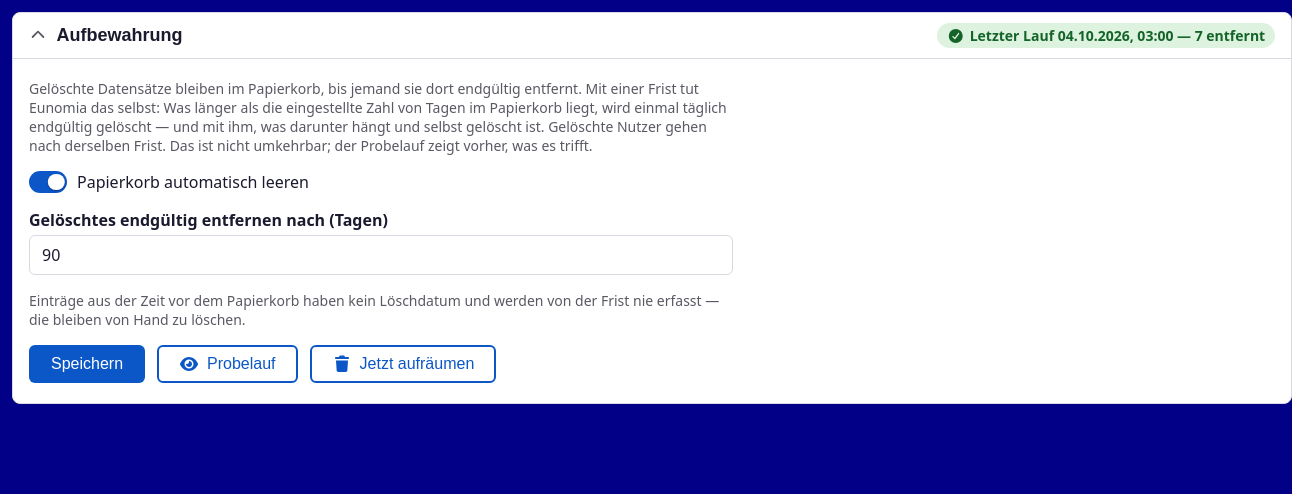
Scenario: RetentionSection › a real sweep asks for a real run and says what went
Click the button "Jetzt aufräumen". click: point(403, 364)
box: [310,345,496,383]
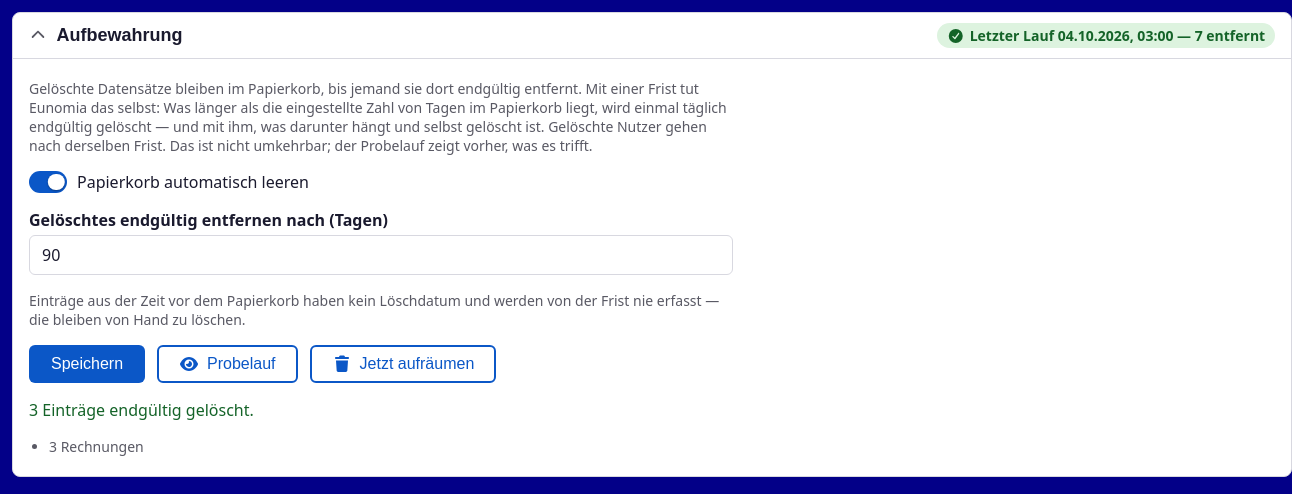
Result: the text "3 Einträge endgültig gelöscht." is shown at [29,399,254,421]
